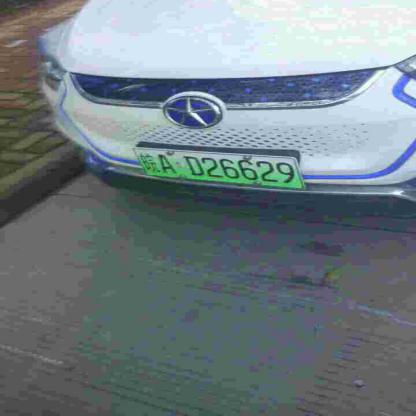lp: (131, 148, 306, 189)
